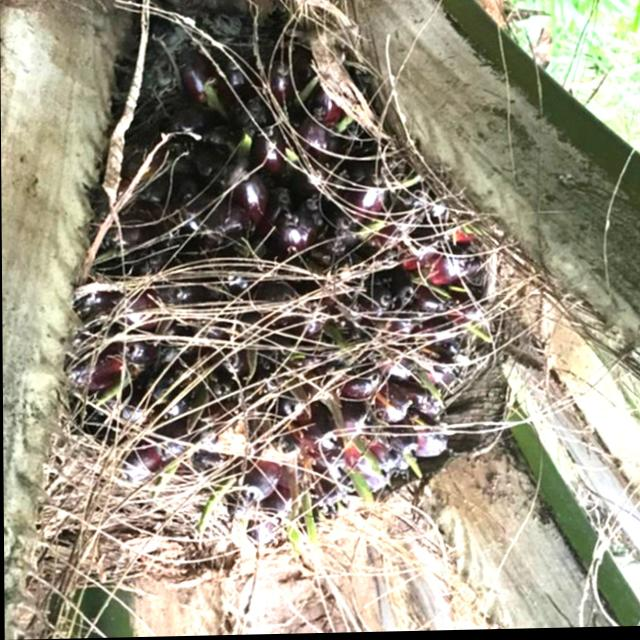ripe: (29, 7, 542, 595)
